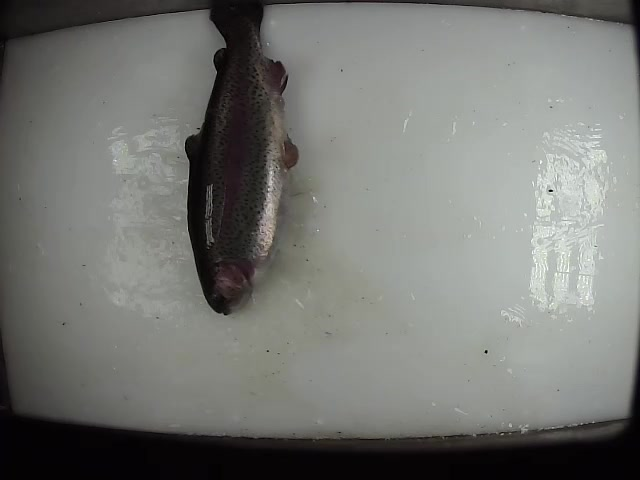fish: (184, 1, 302, 318)
